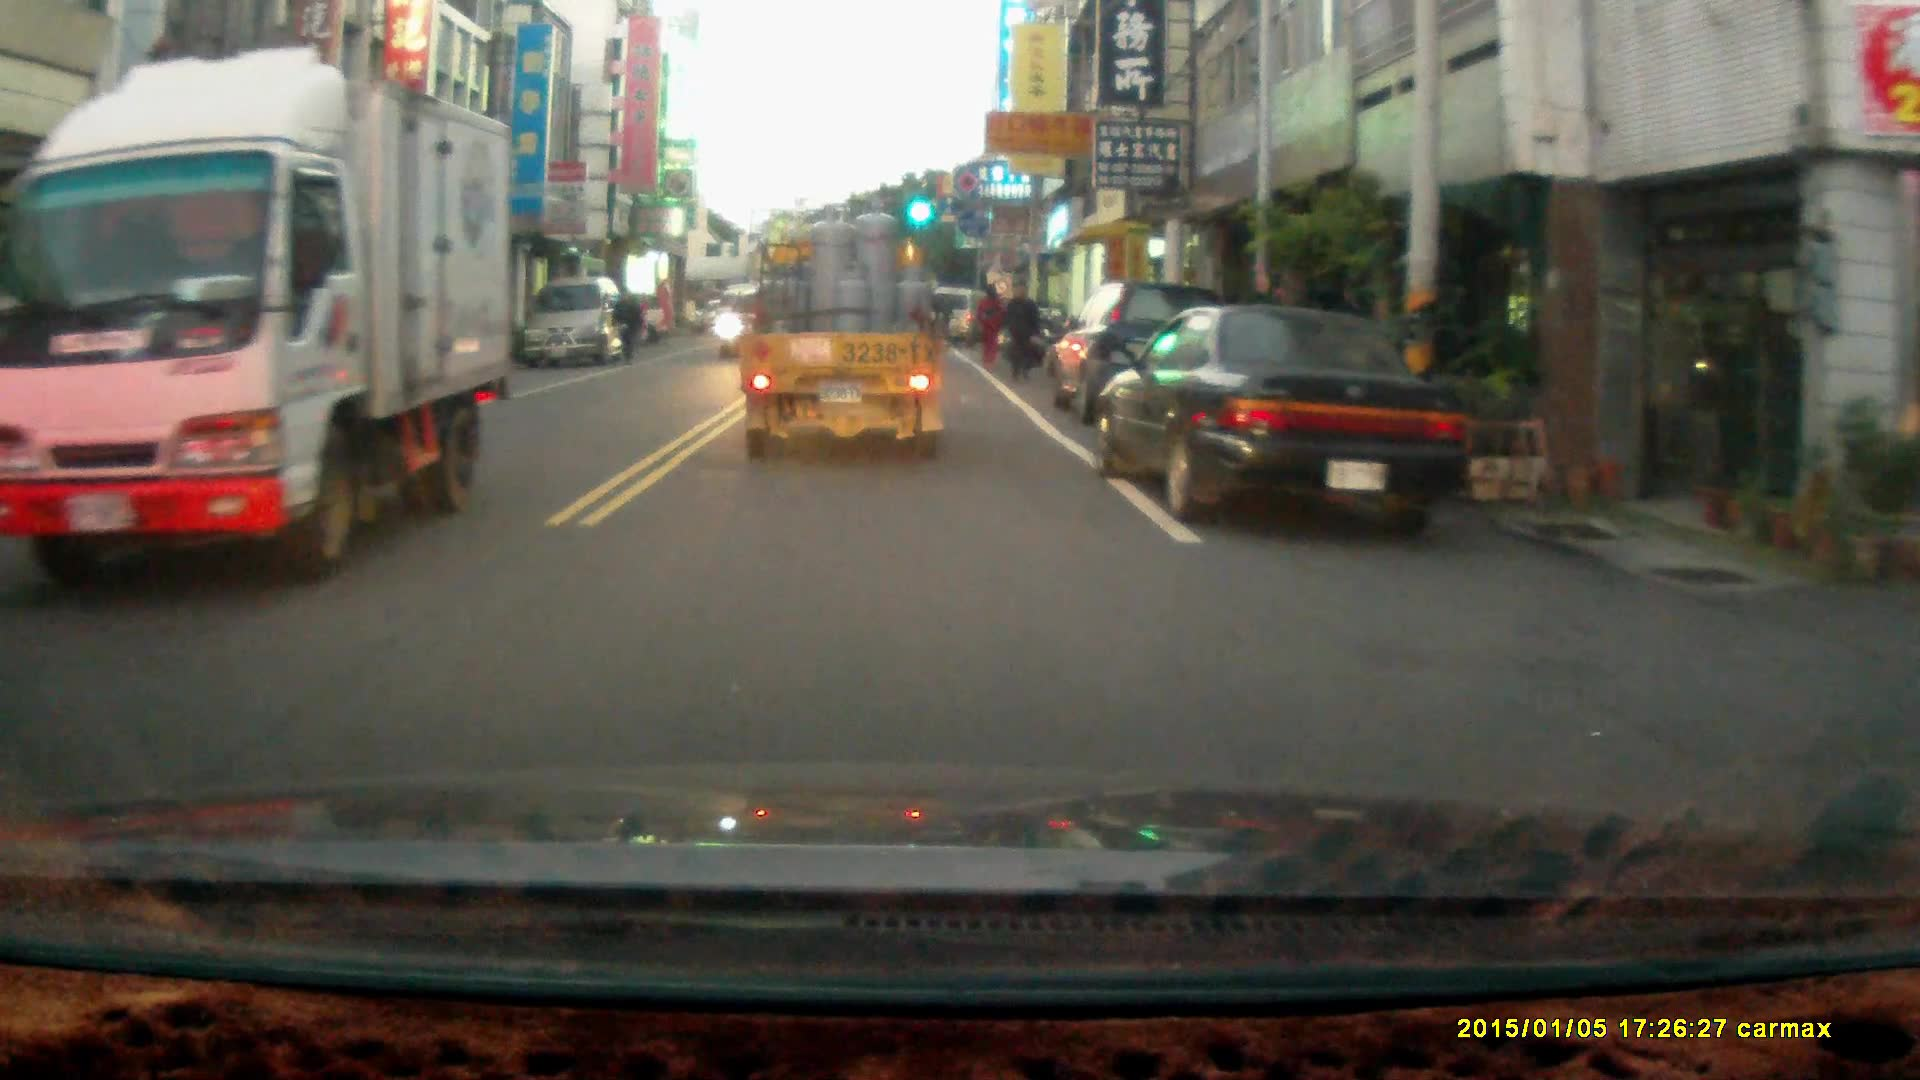pedestrian: (1001, 276, 1040, 383), (974, 282, 1009, 367), (611, 285, 642, 361)
vehicle: (1, 47, 528, 579), (1097, 306, 1475, 534), (737, 195, 949, 468), (1050, 279, 1249, 430), (521, 277, 628, 368), (709, 279, 807, 368)
